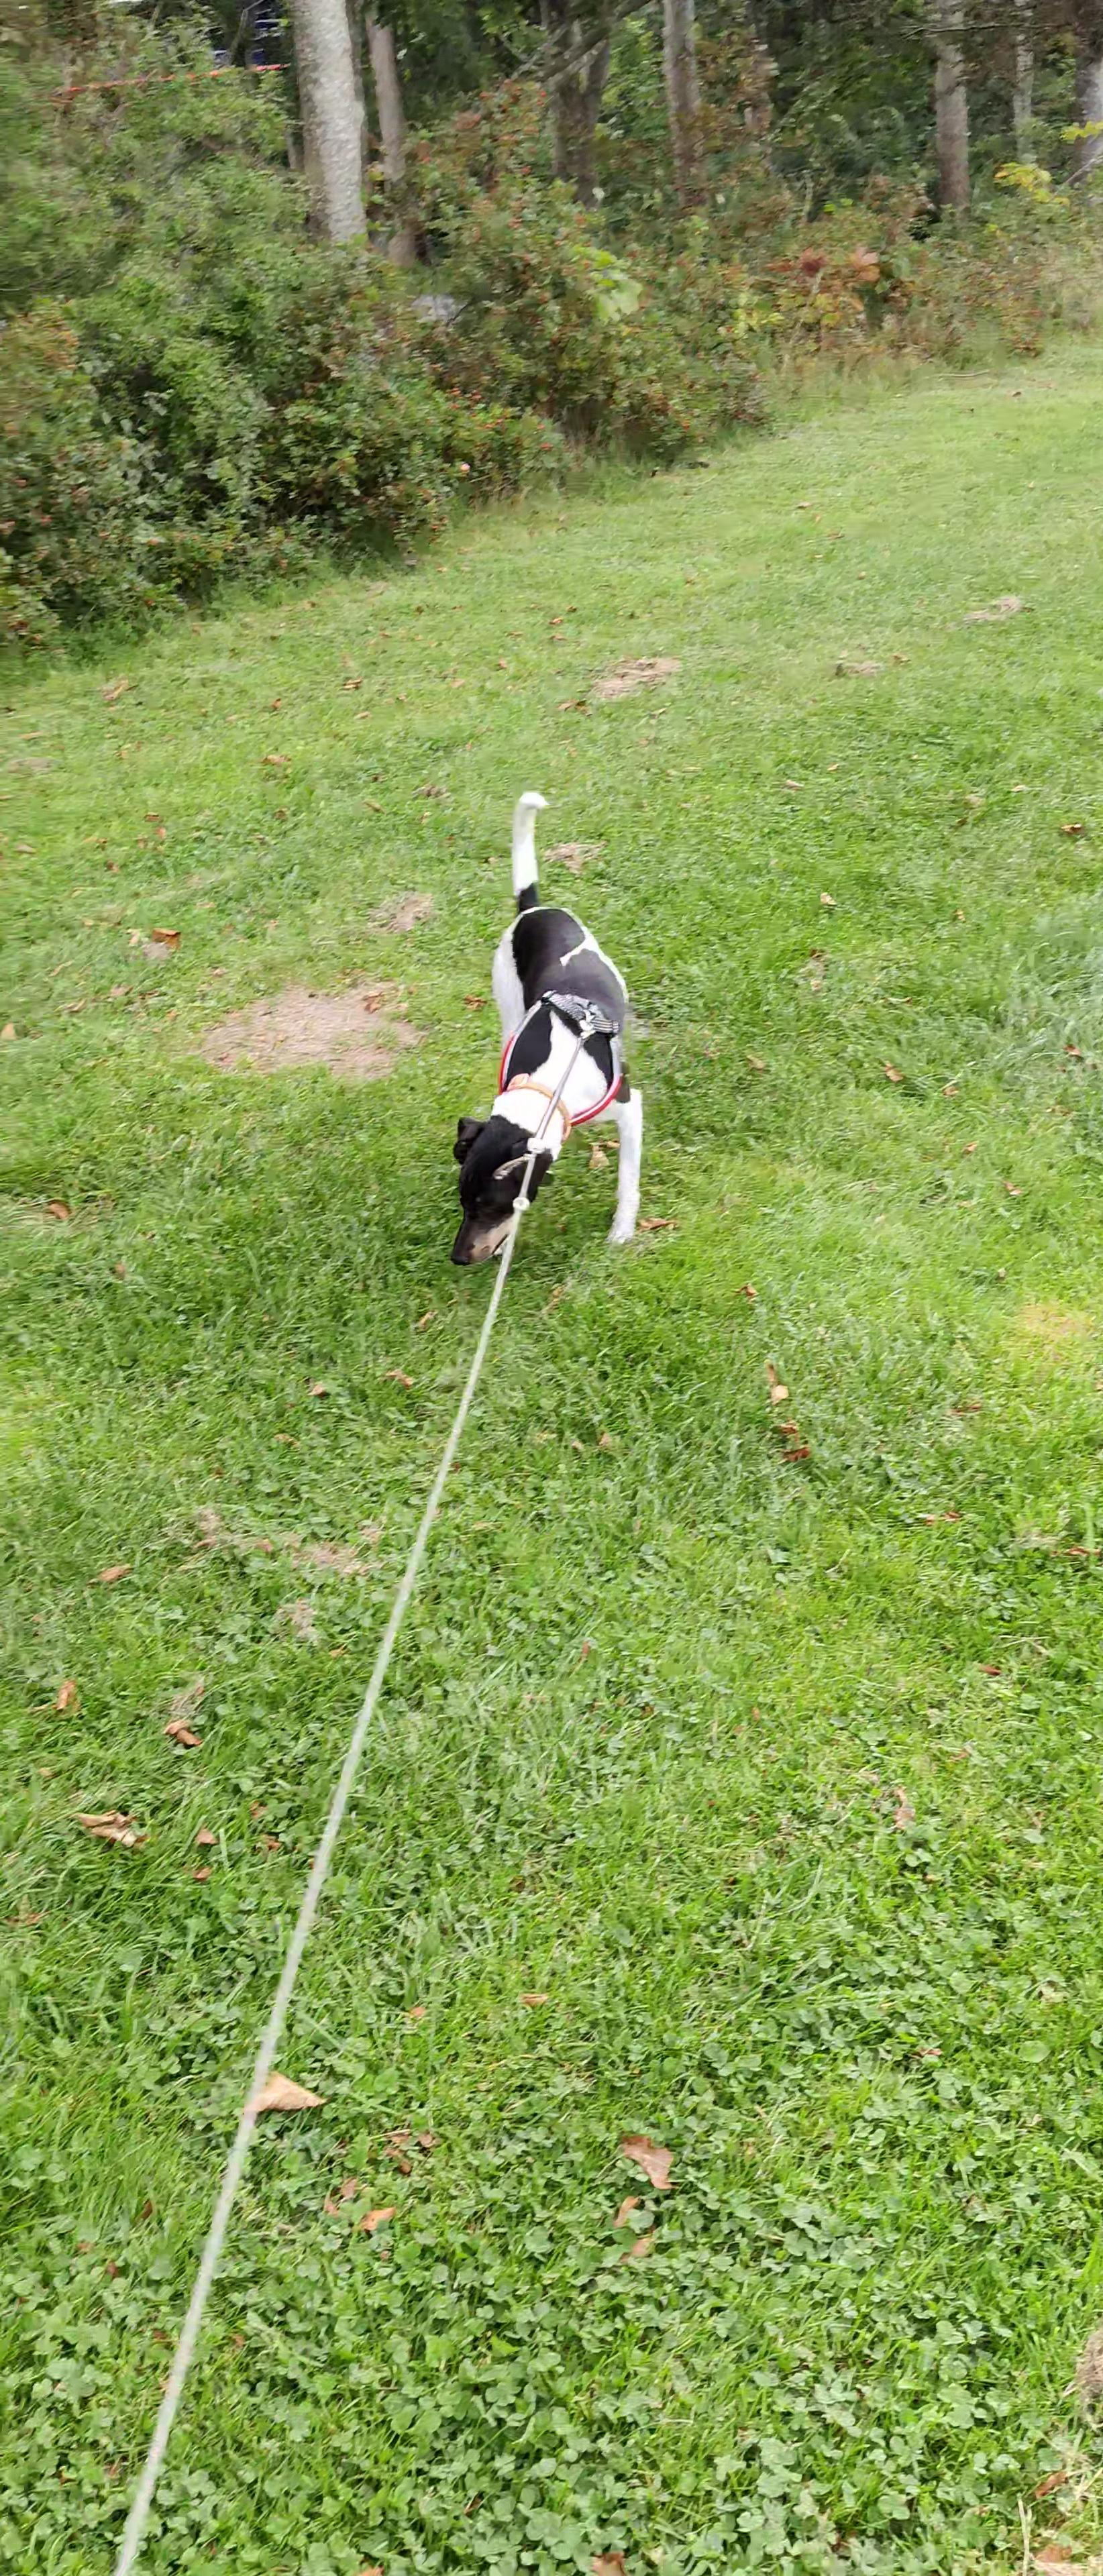Dog: (390, 769, 677, 1285)
